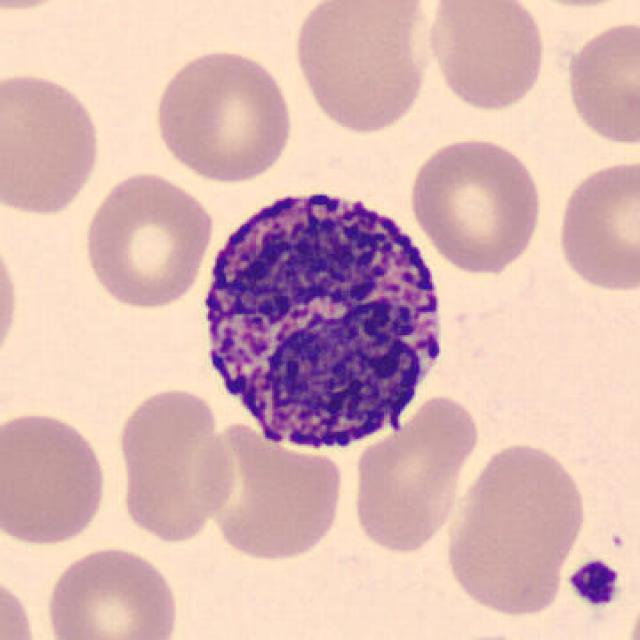Basophil: (187, 170, 457, 466)
Platelets: (565, 557, 624, 608)
RBC: (439, 437, 590, 621), (346, 390, 482, 557), (195, 423, 348, 566), (149, 44, 297, 185), (405, 132, 546, 277), (112, 382, 238, 544), (78, 168, 217, 312), (288, 0, 434, 136), (0, 67, 105, 220), (0, 408, 110, 548), (423, 0, 549, 115), (41, 541, 183, 640), (553, 155, 638, 296), (560, 16, 638, 150), (0, 224, 25, 375), (0, 571, 43, 640), (506, 0, 638, 12), (620, 575, 640, 640), (0, 0, 84, 14)
